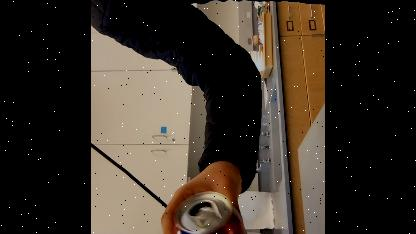Can: (182, 192, 259, 234)
